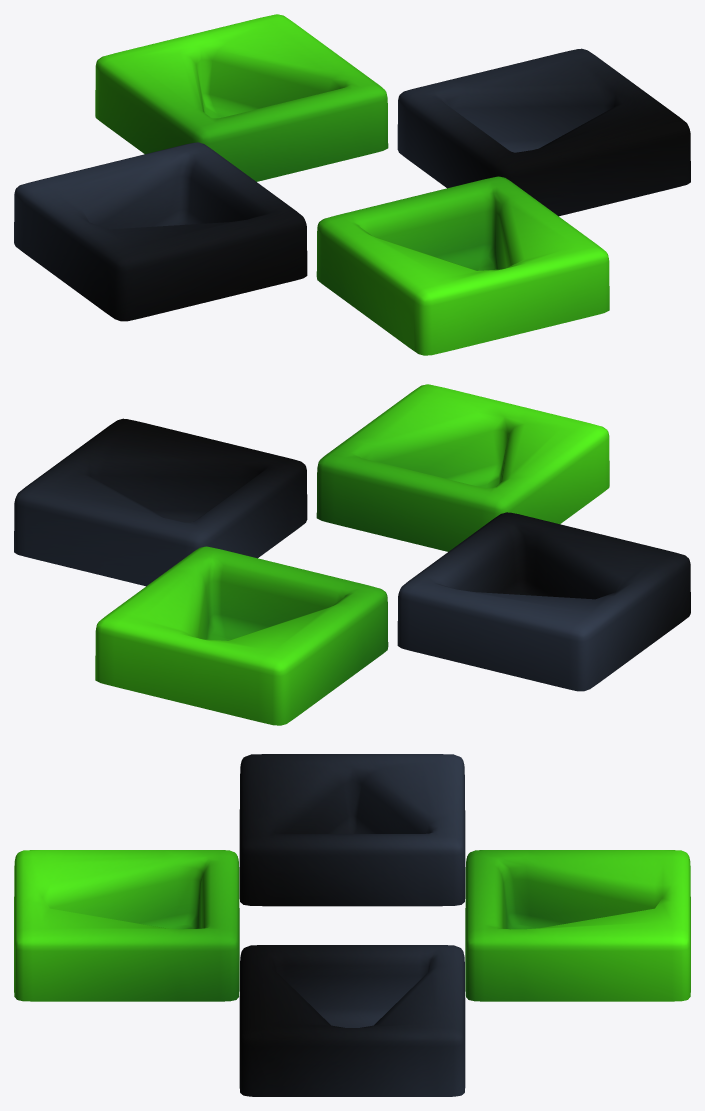
File: ButtonControl.fbx
The picture shows the model from 3 angles, top to bottom: view 1: azimuth 30°, elevation 25°; view 2: azimuth 150°, elevation 25°; view 3: azimuth 270°, elevation 25°; orthographic projection.
Parts seen in each view (by area): view 1: Control_Left, Control_Down, Control_Right, Control_UP; view 2: Control_Left, Control_UP, Control_Right, Control_Down; view 3: Control_Left, Control_Right, Control_Down, Control_UP.
Part boxes in pixels (x1,y1,x2,y2): Control_Left: (14, 142, 307, 321); Control_Down: (316, 176, 609, 355); Control_Right: (397, 48, 690, 216); Control_UP: (95, 14, 388, 181); Control_Left: (397, 512, 690, 691); Control_UP: (95, 546, 388, 725); Control_Right: (14, 418, 307, 586); Control_Down: (316, 384, 609, 551); Control_Left: (239, 754, 465, 906); Control_Right: (239, 945, 465, 1096); Control_Down: (14, 850, 239, 1001); Control_UP: (465, 850, 690, 1001).
Bounding box in the file's own units: 3 × 0.3 × 3.
